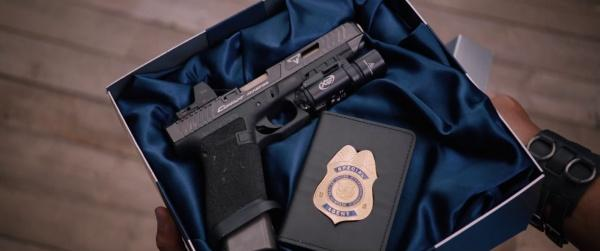Gun: (168, 19, 390, 251)
